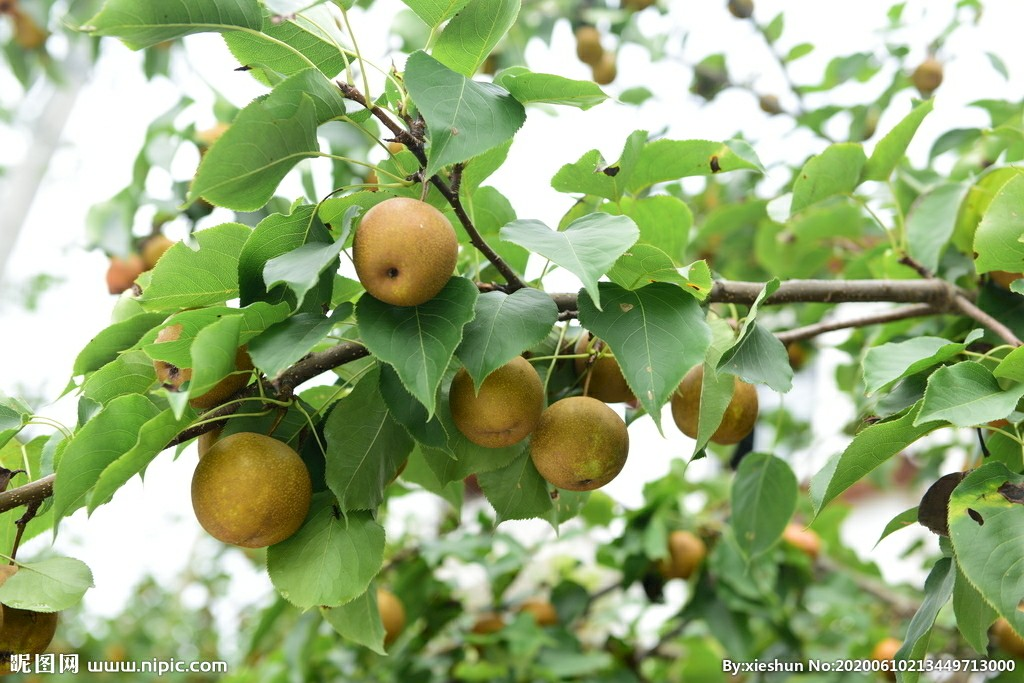pear: (191, 432, 313, 548), (354, 198, 457, 308), (531, 394, 629, 491), (449, 351, 542, 448), (671, 358, 761, 448)
